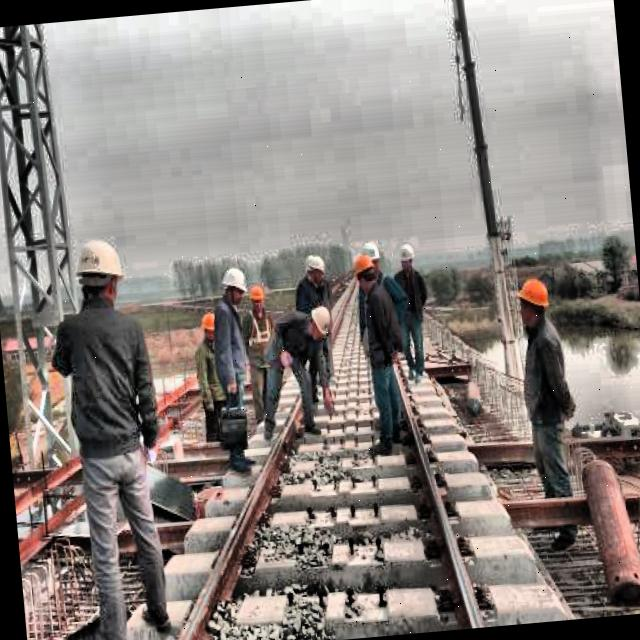helmet: (70, 232, 129, 313), (512, 270, 554, 332), (392, 235, 422, 278), (220, 261, 248, 307), (348, 252, 377, 290), (302, 250, 330, 288), (359, 237, 384, 275), (306, 301, 332, 337), (246, 280, 271, 316), (197, 308, 218, 342)
